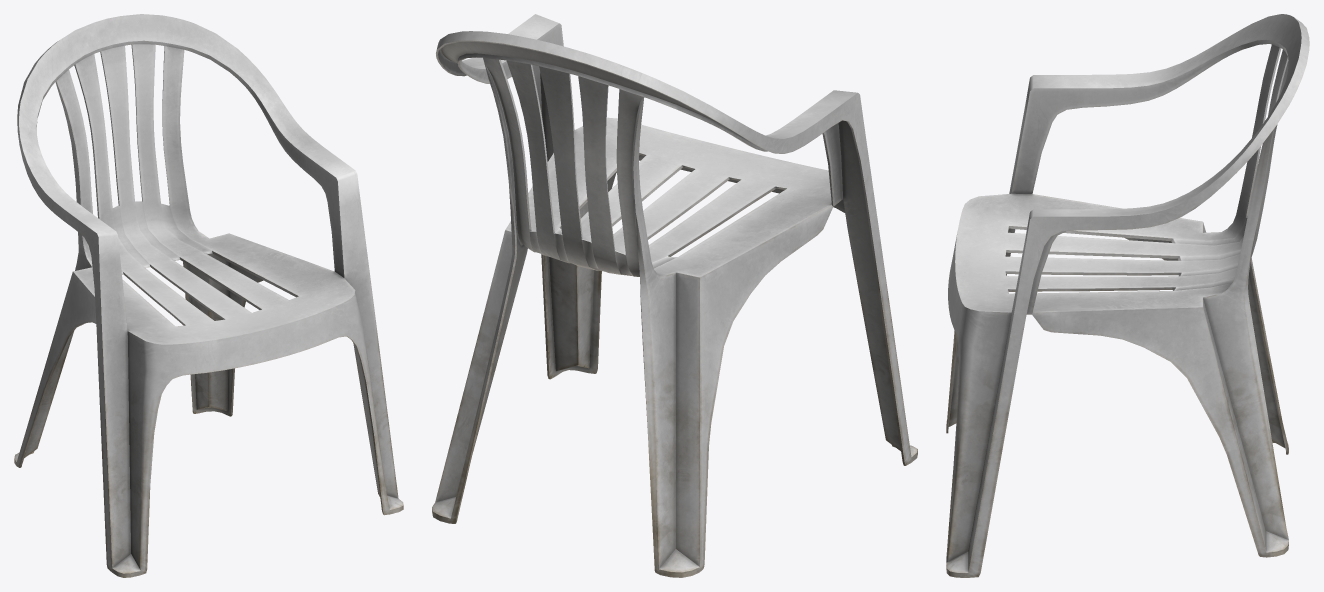
Rendered from plastic_monobloc_chair_01.glb.
The picture shows the model from 3 angles, left to right: view 1: azimuth 30°, elevation 25°; view 2: azimuth 150°, elevation 25°; view 3: azimuth 270°, elevation 25°; orthographic projection. The views are drawn at different scales.
Parts seen in each view (by area): view 1: plastic_monobloc_chair_01; view 2: plastic_monobloc_chair_01; view 3: plastic_monobloc_chair_01.
Boxes of the visible parts, left/top/right/bottom form: plastic_monobloc_chair_01: left=14, top=14, right=403, bottom=577; plastic_monobloc_chair_01: left=432, top=14, right=917, bottom=577; plastic_monobloc_chair_01: left=946, top=14, right=1309, bottom=577.
Bounding box in the file's own units: 0.6419 × 0.8798 × 0.6276.
Materials: 1 (1 with a texture image).
